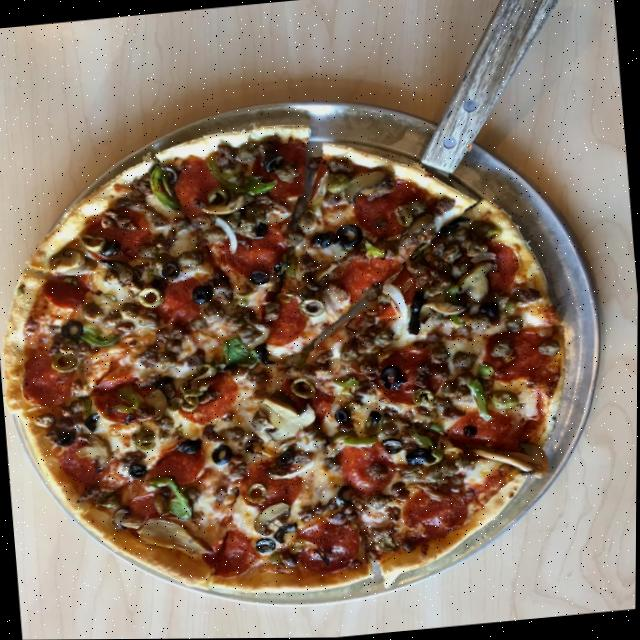black_olives: (402, 286, 428, 337), (333, 220, 365, 251), (438, 214, 474, 238), (378, 362, 406, 391), (332, 481, 358, 512), (258, 151, 286, 175), (477, 299, 503, 323), (80, 408, 103, 434), (252, 535, 279, 557), (61, 317, 85, 340), (174, 436, 203, 455), (272, 448, 297, 470), (271, 523, 298, 543), (188, 283, 215, 303), (97, 237, 124, 257), (308, 229, 335, 249), (212, 442, 234, 466), (159, 258, 183, 280), (255, 340, 275, 366), (403, 449, 433, 466), (380, 436, 404, 457), (55, 429, 80, 447), (126, 461, 150, 479), (161, 165, 182, 185), (247, 267, 270, 285), (364, 409, 384, 428), (458, 423, 481, 438), (250, 221, 271, 237), (272, 260, 290, 277), (332, 409, 352, 424)
green_olives: (292, 295, 328, 320), (487, 386, 520, 413), (177, 383, 205, 413), (231, 281, 257, 309), (289, 375, 319, 399), (49, 351, 78, 374), (78, 229, 107, 252), (245, 480, 271, 505), (138, 285, 166, 308), (324, 172, 352, 195), (130, 428, 158, 450), (372, 536, 401, 557), (420, 446, 446, 468), (393, 203, 415, 229), (95, 489, 122, 509), (412, 386, 436, 408), (329, 426, 359, 443), (206, 187, 230, 206), (500, 295, 520, 315)
mushrooms: (470, 435, 554, 486), (250, 386, 320, 442), (135, 512, 215, 559), (451, 258, 500, 309), (292, 252, 342, 295), (340, 168, 395, 205), (402, 464, 449, 502), (74, 429, 113, 474), (392, 210, 438, 248), (250, 498, 293, 537), (415, 297, 467, 325), (198, 195, 249, 220), (49, 245, 87, 278), (100, 256, 136, 289), (138, 387, 171, 422), (108, 505, 147, 534)
pepperoni: (349, 176, 425, 244), (397, 480, 473, 547), (373, 343, 447, 408), (247, 136, 317, 204), (234, 453, 308, 516), (219, 221, 291, 282), (481, 324, 551, 384), (171, 368, 241, 428), (294, 516, 365, 575), (442, 404, 522, 456), (335, 252, 408, 308), (197, 523, 263, 584), (335, 436, 398, 499), (84, 205, 151, 261), (173, 152, 226, 218), (256, 286, 313, 346), (18, 351, 78, 407), (86, 371, 148, 425), (150, 270, 208, 326), (57, 432, 114, 482), (373, 263, 421, 319), (153, 438, 209, 486), (478, 239, 524, 296), (41, 273, 92, 312), (125, 491, 165, 535), (309, 388, 338, 429)
pizza: (0, 88, 588, 621)
